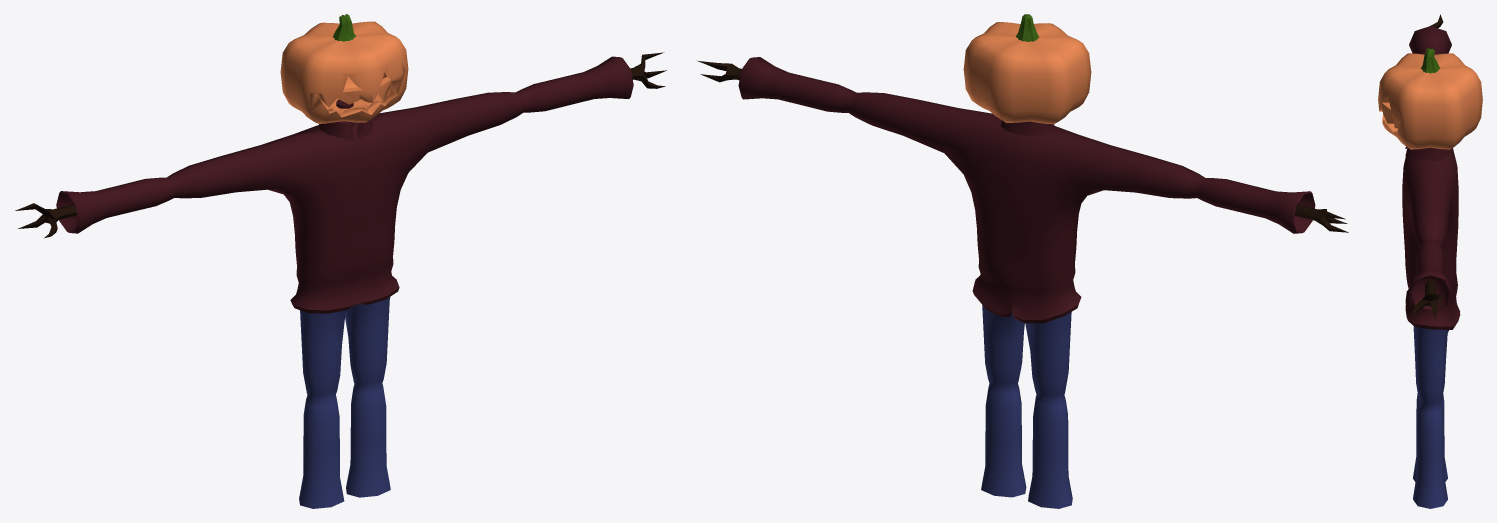
File: Scarecrow.fbx
3 views of the same model, side by side, from view 1: azimuth 30°, elevation 25°; view 2: azimuth 150°, elevation 25°; view 3: azimuth 270°, elevation 25° (orthographic). The views are drawn at different scales.
Visible parts, largest first — view 1: Cylinder.001; view 2: Cylinder.001; view 3: Cylinder.001.
Part boxes in pixels (box(x1,y1,x2,y2)): Cylinder.001: box(15, 14, 666, 508); Cylinder.001: box(698, 14, 1348, 508); Cylinder.001: box(1378, 14, 1482, 508).
Size of the model in its own units: 1282 by 902 by 195.
